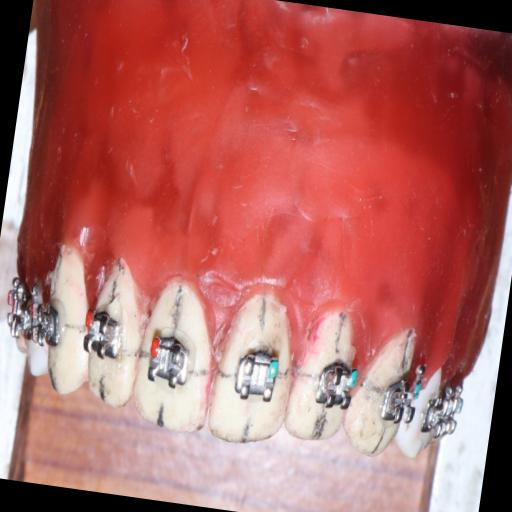correct_brace: (228, 342, 285, 410)
incorrect_brace: (139, 324, 198, 394)
